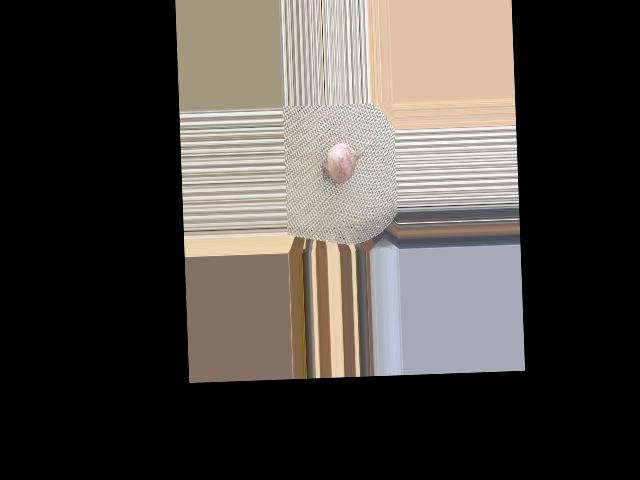beet: (319, 124, 377, 184)
